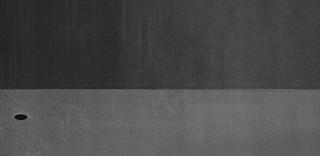punching hole: (11, 112, 35, 122)
welding line: (3, 87, 320, 93)
